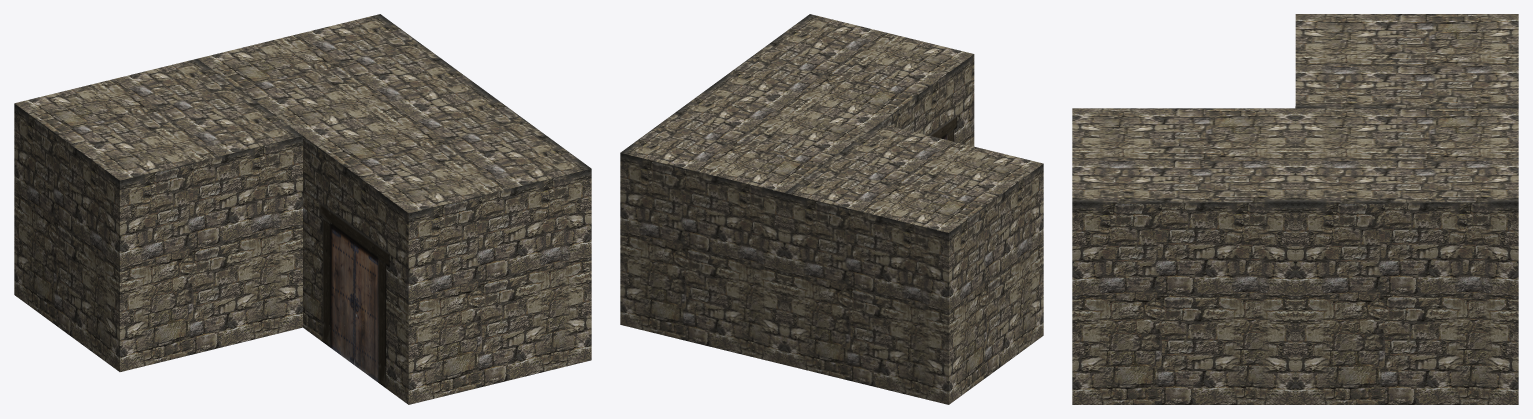
The model's file is WallBase04Door.FBX.
3 views of the same model, side by side, from view 1: azimuth 30°, elevation 25°; view 2: azimuth 150°, elevation 25°; view 3: azimuth 270°, elevation 25° (orthographic). The views are drawn at different scales.
Parts seen in each view (by area): view 1: WallBase04Door; view 2: WallBase04Door; view 3: WallBase04Door.
Boxes of the visible parts, x1,y1,x2,y2 form: WallBase04Door: (14, 14, 591, 404); WallBase04Door: (620, 14, 1043, 404); WallBase04Door: (1072, 14, 1518, 404).
Bounding box in the file's own units: 700 × 350 × 700.
